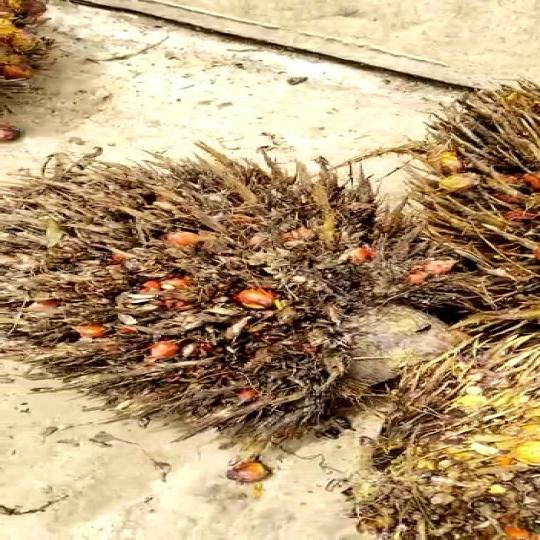terlalu masak: (0, 151, 458, 443)
